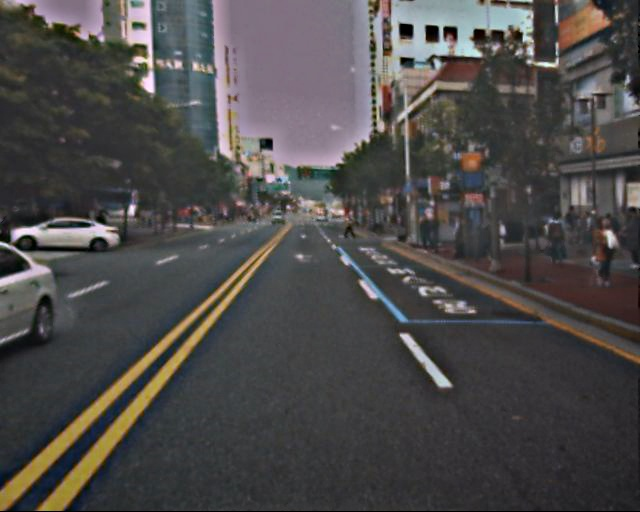person: (586, 218, 614, 286), (619, 205, 640, 271), (545, 211, 568, 267), (566, 206, 592, 240), (449, 216, 467, 259), (417, 214, 432, 250), (344, 212, 355, 240)
